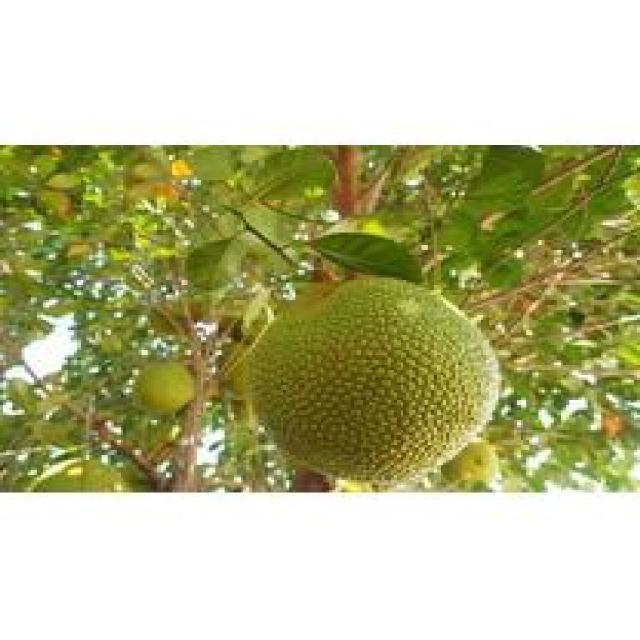fruit: (98, 130, 520, 535)
